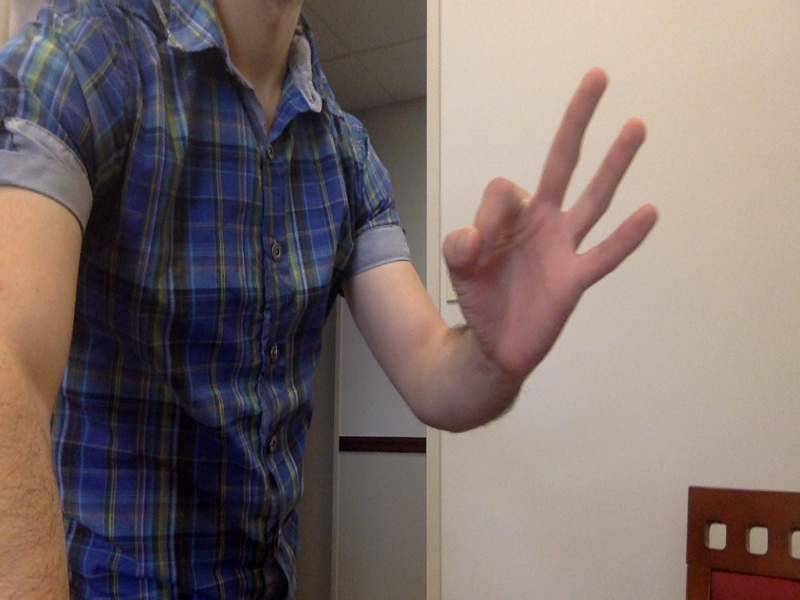3-hand: (442, 65, 660, 385)
